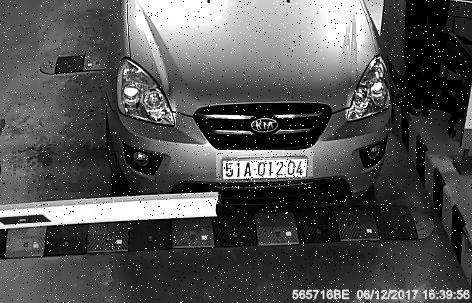License-plate: (217, 152, 314, 191)
